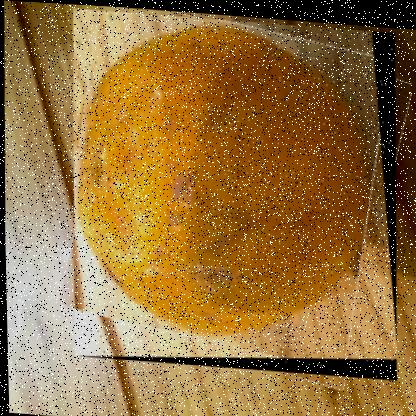orange_rotten: (67, 5, 402, 375)
